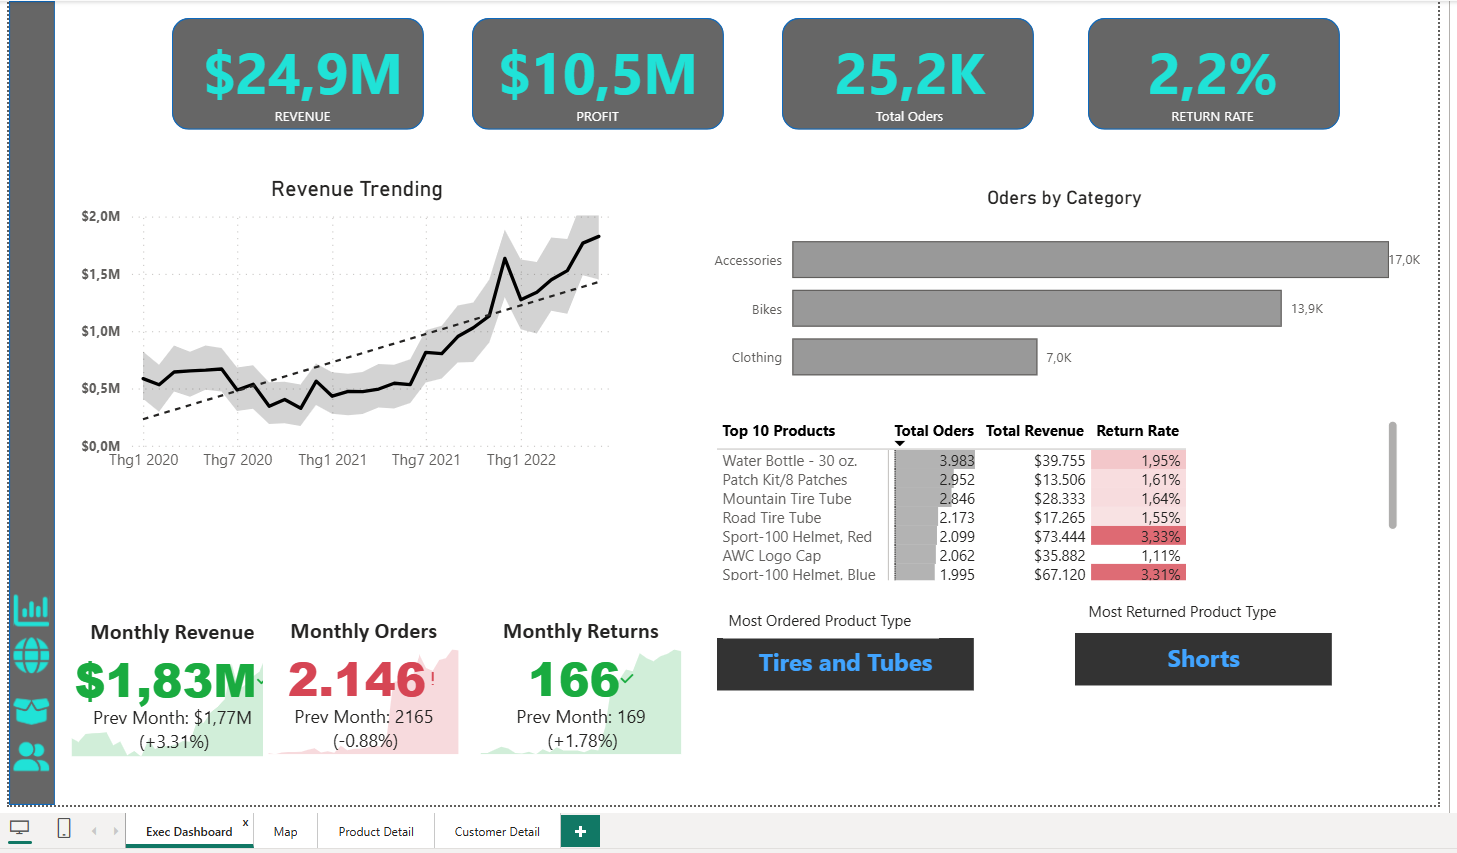

The page's visual inventory and layout, read from the dashboard file:
{"tool":"powerbi","page":{"name":"Exec Dashboard","canvas":[1280,720],"ordinal":0},"visuals":[{"type":"shape","box":[146.1,15.5,225.6,100],"z":0,"group":"g2"},{"type":"shape","title":"Left Vax Background","box":[0,0,41.2,720],"z":1000},{"type":"shape","box":[966.1,15.5,225.6,100],"z":1000,"group":"g2"},{"type":"group","id":"g1","title":"KPI","box":[146.1,11.1,1045.2,118.9],"z":2000},{"type":"group","id":"g2","title":"KPI Backgrounds","box":[146.1,15.5,1045.6,100],"z":2000,"group":"g1"},{"type":"shape","box":[692.8,15.5,225.6,100],"z":2000,"group":"g2"},{"type":"card","fields":{"Values":["Measure Table.Total Profit"]},"box":[415,11.1,223.3,118.9],"z":3000,"group":"g3"},{"type":"lineChart","title":" Revenue Trending","fields":{"Y":["Measure Table.Total Revenue"],"Category":["Calendar Lookup.Date Hierarchy.Start of Month"]},"box":[58.8,153.6,505.2,275.3],"z":3000},{"type":"card","fields":{"Values":["Measure Table.Total Oders"]},"box":[695,11.1,223.3,118.9],"z":4000,"group":"g3"},{"type":"shape","box":[415,15.5,225.6,100],"z":4000,"group":"g2"},{"type":"kpi","title":"Monthly Revenue","fields":{"Indicator":["Measure Table.Total Revenue"],"TrendLine":["Calendar Lookup.Start of Month"],"Goal":["Measure Table.Previous Month Revenue"]},"box":[51,552.5,190.7,129],"z":4000},{"type":"card","fields":{"Values":["Measure Table.Return Rate"]},"box":[966.1,11.1,223.3,118.9],"z":5000,"group":"g3"},{"type":"kpi","title":"Monthly Orders","fields":{"TrendLine":["Calendar Lookup.Start of Month"],"Indicator":["Measure Table.Total Oders"],"Goal":["Measure Table.Previous Month Orders"]},"box":[227.8,551.5,180.4,127.8],"z":5000},{"type":"card","fields":{"Values":["Measure Table.Total Revenue"]},"box":[151,11.1,223.3,118.9],"z":6000,"group":"g3"},{"type":"kpi","title":"Monthly Returns","fields":{"TrendLine":["Calendar Lookup.Start of Month"],"Indicator":["Measure Table.Total Returns"],"Goal":["Measure Table.Previous Month Return"]},"box":[417.5,551.5,189.7,127.8],"z":6000},{"type":"group","id":"g3","title":"KPI Value","box":[151,11.1,1038.4,118.9],"z":6001,"group":"g1"},{"type":"clusteredBarChart","title":" Oders by Category","fields":{"Category":["Product Categories Lookup.CategoryName"],"Y":["Measure Table.Total Oders"]},"box":[621.6,166,647.4,193.8],"z":7000},{"type":"pivotTable","fields":{"Rows":["Product Lookup.ProductName"],"Values":["Measure Table.Total Oders","Measure Table.Total Revenue","Measure Table.Return Rate"]},"box":[628.5,371.1,619.5,152.6],"z":8000},{"type":"card","fields":{"Values":["Min(Product Subcategories Lookup.SubcategoryName)"]},"box":[634,570.4,230.1,46.6],"z":9000},{"type":"textbox","box":[639.4,540.9,193.4,29.6],"z":10000},{"type":"card","fields":{"Values":["Min(Product Subcategories Lookup.SubcategoryName)"]},"box":[954.8,565.7,230.5,46.9],"z":11000},{"type":"textbox","box":[961.8,532.8,207.8,33.1],"z":12000},{"type":"actionButton","box":[0,525.7,41.2,40.3],"z":14000},{"type":"actionButton","box":[0,616.1,41.2,40.3],"z":15000},{"type":"actionButton","box":[0,566,41.2,40.3],"z":16000},{"type":"actionButton","box":[0,656.4,41.2,40.3],"z":17000}]}

Visuals, with their boxes on the page's 1280x720 design canvas (x1, y1, x2, y2). These are canvas units, not pixel positions in the 1457x853 screenshot, which may show the page scaled, cropped or inside an application window:
shape: <box>146,16,372,116</box>
"Left Vax Background" shape: <box>0,0,41,720</box>
shape: <box>966,16,1192,116</box>
"KPI" group: <box>146,11,1191,130</box>
"KPI Backgrounds" group: <box>146,16,1192,116</box>
shape: <box>693,16,918,116</box>
card - Measure Table.Total Profit: <box>415,11,638,130</box>
" Revenue Trending" lineChart: <box>59,154,564,429</box>
card - Measure Table.Total Oders: <box>695,11,918,130</box>
shape: <box>415,16,641,116</box>
"Monthly Revenue" kpi: <box>51,552,242,682</box>
card - Measure Table.Return Rate: <box>966,11,1189,130</box>
"Monthly Orders" kpi: <box>228,552,408,679</box>
card - Measure Table.Total Revenue: <box>151,11,374,130</box>
"Monthly Returns" kpi: <box>418,552,607,679</box>
"KPI Value" group: <box>151,11,1189,130</box>
" Oders by Category" clusteredBarChart: <box>622,166,1269,360</box>
pivotTable - Product Lookup.ProductName x Measure Table.Total Oders: <box>628,371,1248,524</box>
card - Min(Product Subcategories Lookup.SubcategoryName): <box>634,570,864,617</box>
textbox: <box>639,541,833,570</box>
card - Min(Product Subcategories Lookup.SubcategoryName): <box>955,566,1185,613</box>
textbox: <box>962,533,1170,566</box>
actionButton: <box>0,526,41,566</box>
actionButton: <box>0,616,41,656</box>
actionButton: <box>0,566,41,606</box>
actionButton: <box>0,656,41,697</box>
